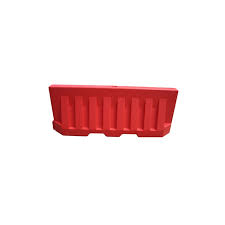barrier: (46, 85, 178, 139)
